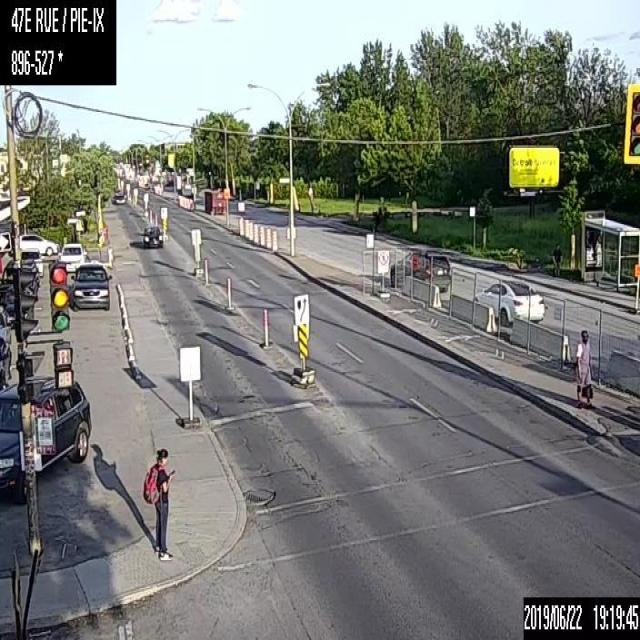construction: (262, 308, 268, 347), (225, 278, 231, 310), (203, 256, 208, 288), (244, 216, 249, 238), (248, 220, 253, 241), (259, 226, 264, 247), (266, 226, 271, 247), (272, 228, 276, 250), (238, 216, 242, 237), (253, 222, 257, 243)
pedestrian: (142, 448, 174, 559), (574, 328, 594, 408), (552, 244, 562, 276)
vehicle: (0, 375, 90, 504), (472, 278, 545, 330), (388, 250, 452, 294), (71, 263, 110, 311), (1, 258, 39, 302), (10, 230, 59, 258), (57, 243, 86, 271), (140, 223, 164, 249), (0, 340, 10, 391), (0, 306, 11, 351), (113, 191, 125, 204)
